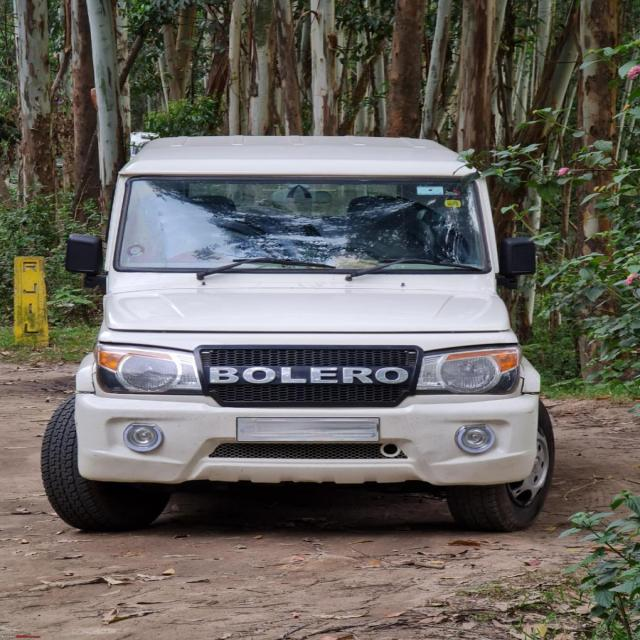light_vehicle: (47, 122, 558, 531)
